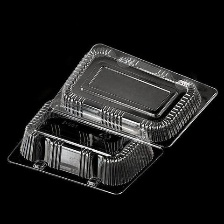plastic_box: (1, 37, 224, 201)
